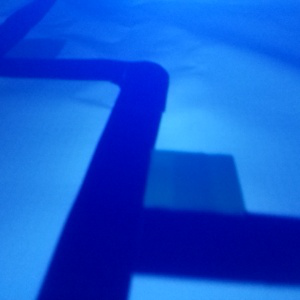top_right: (96, 150, 244, 272)
